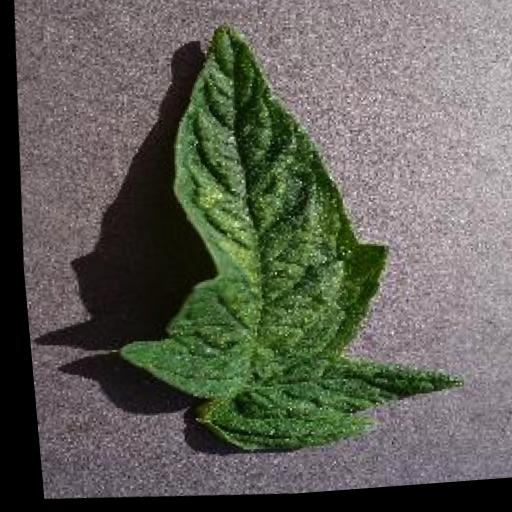Spider Mites: (82, 1, 478, 475)
